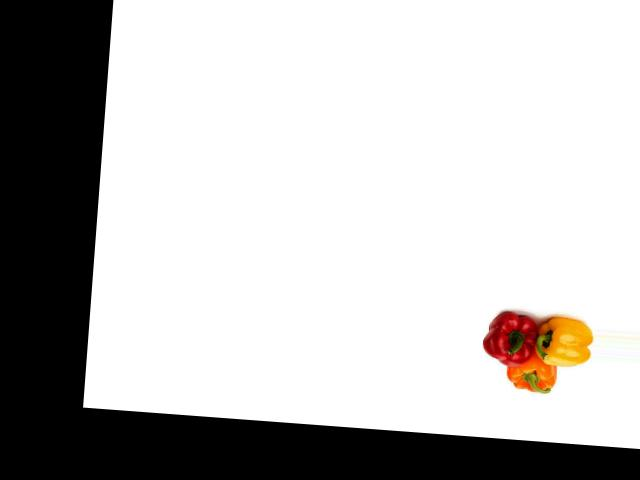bell_pepper: (537, 311, 594, 370)
